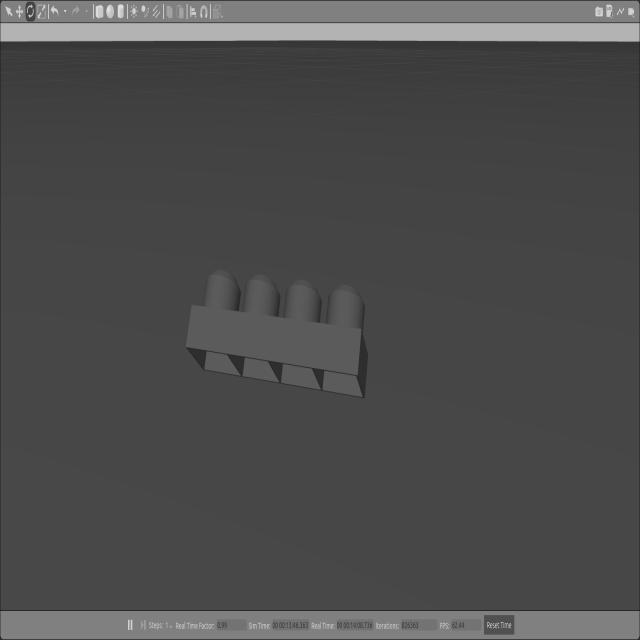block8: (185, 268, 368, 399)
